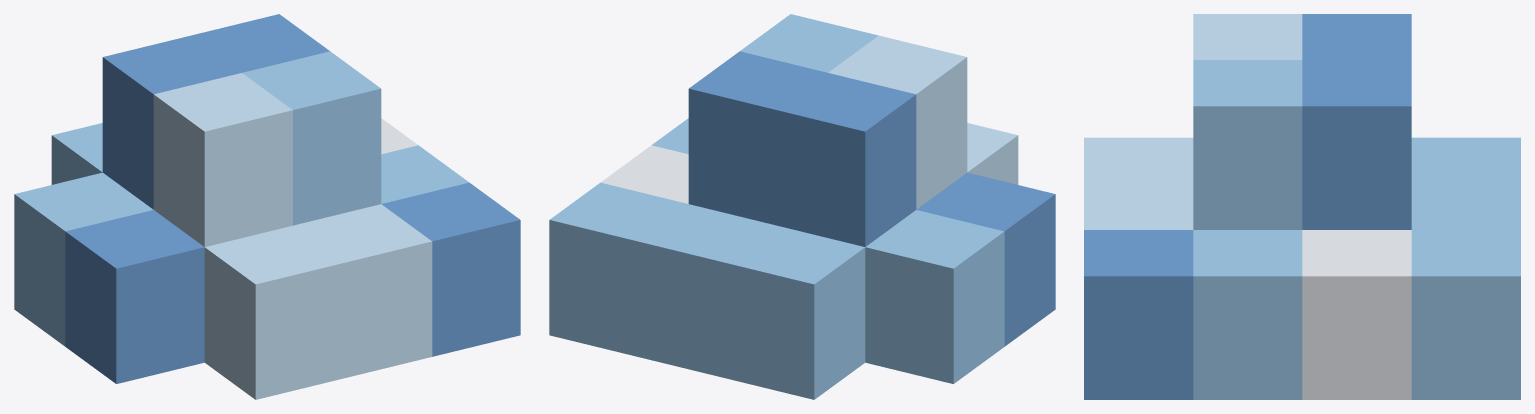
The model's file is IcebergSmall.glb.
The picture shows the model from 3 angles, left to right: view 1: azimuth 30°, elevation 25°; view 2: azimuth 150°, elevation 25°; view 3: azimuth 270°, elevation 25°; orthographic projection. The views are drawn at different scales.
Parts seen in each view (by area): view 1: IcebergSmall; view 2: IcebergSmall; view 3: IcebergSmall.
Boxes of the visible parts, x1=… form: IcebergSmall: x1=14, y1=14, x2=520, y2=399; IcebergSmall: x1=549, y1=14, x2=1055, y2=399; IcebergSmall: x1=1084, y1=14, x2=1520, y2=399.
Bounding box in the file's own units: 8 × 5 × 8.
1 material, 1 textured.
